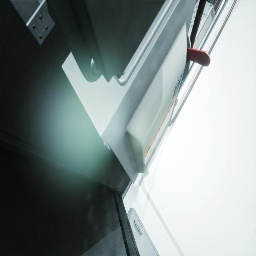SafetySwitchPanel ,: (62, 0, 211, 184)
